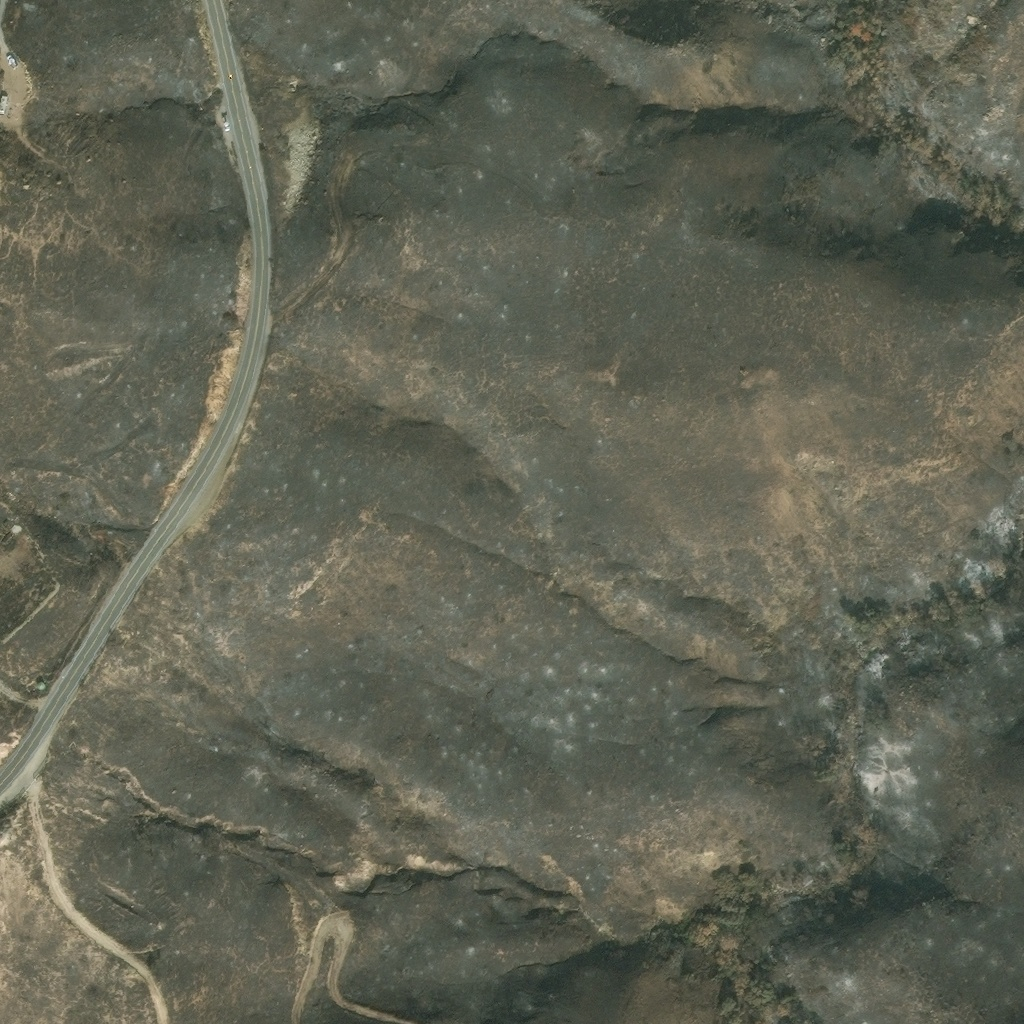1 minor-damage: (0, 96, 7, 115)
